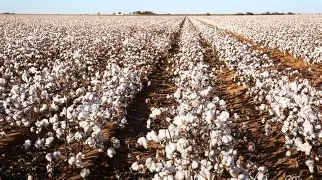crops: (126, 16, 317, 178), (7, 59, 132, 176), (0, 10, 311, 16)
